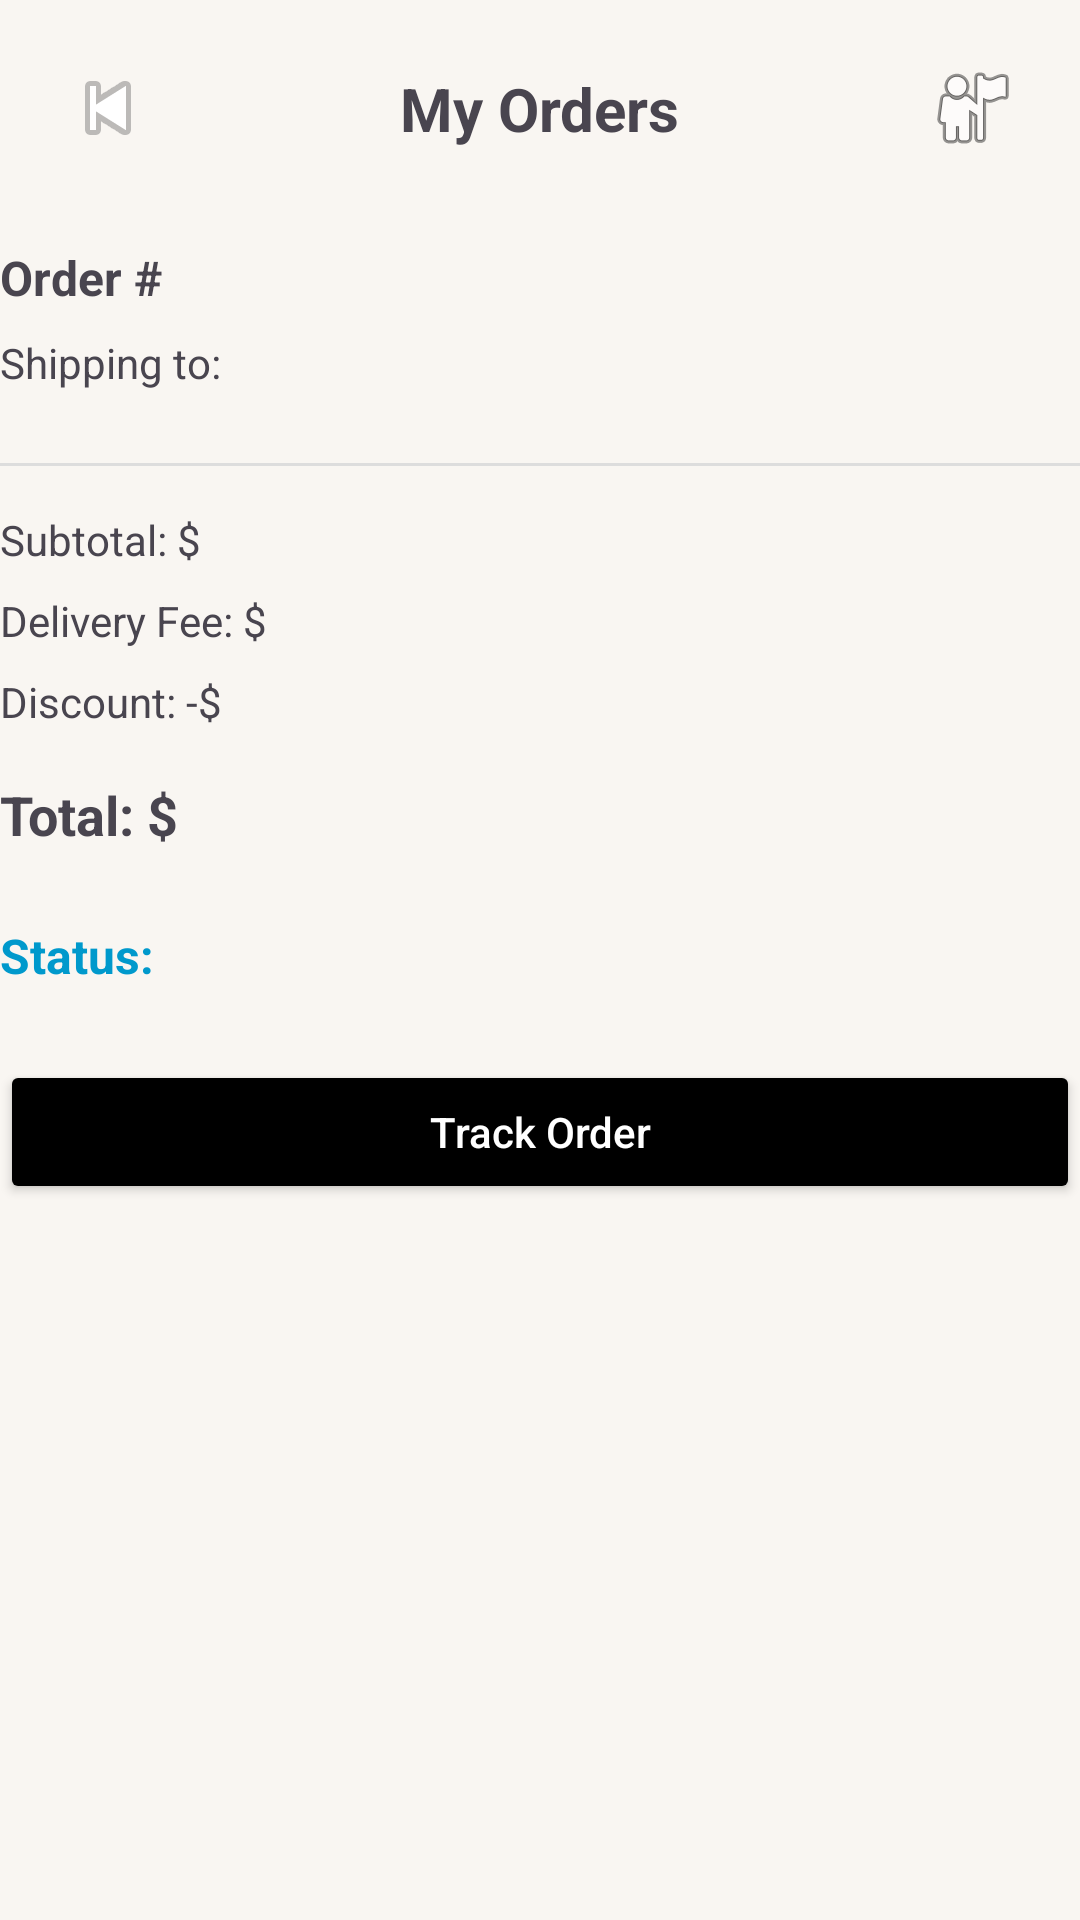

Named icons in this screenshot (1080×1920) and their bounding boxes, bbox(x1, y1, x2, y2):
myplaces: bbox(937, 72, 1009, 144)
previous: bbox(85, 81, 131, 135)
